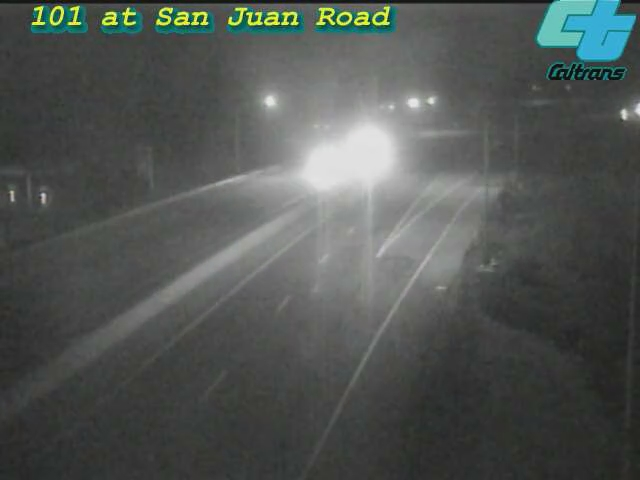vehicle: (290, 123, 370, 203), (322, 112, 402, 192), (595, 90, 640, 140)
